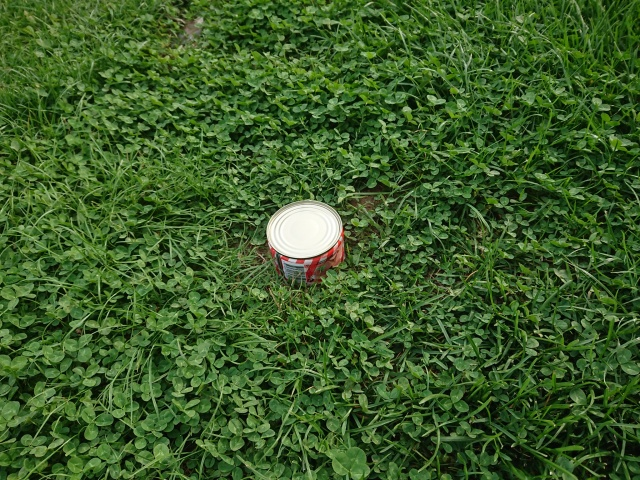Podravka Luncheon Meat 150g: (263, 198, 350, 291)
